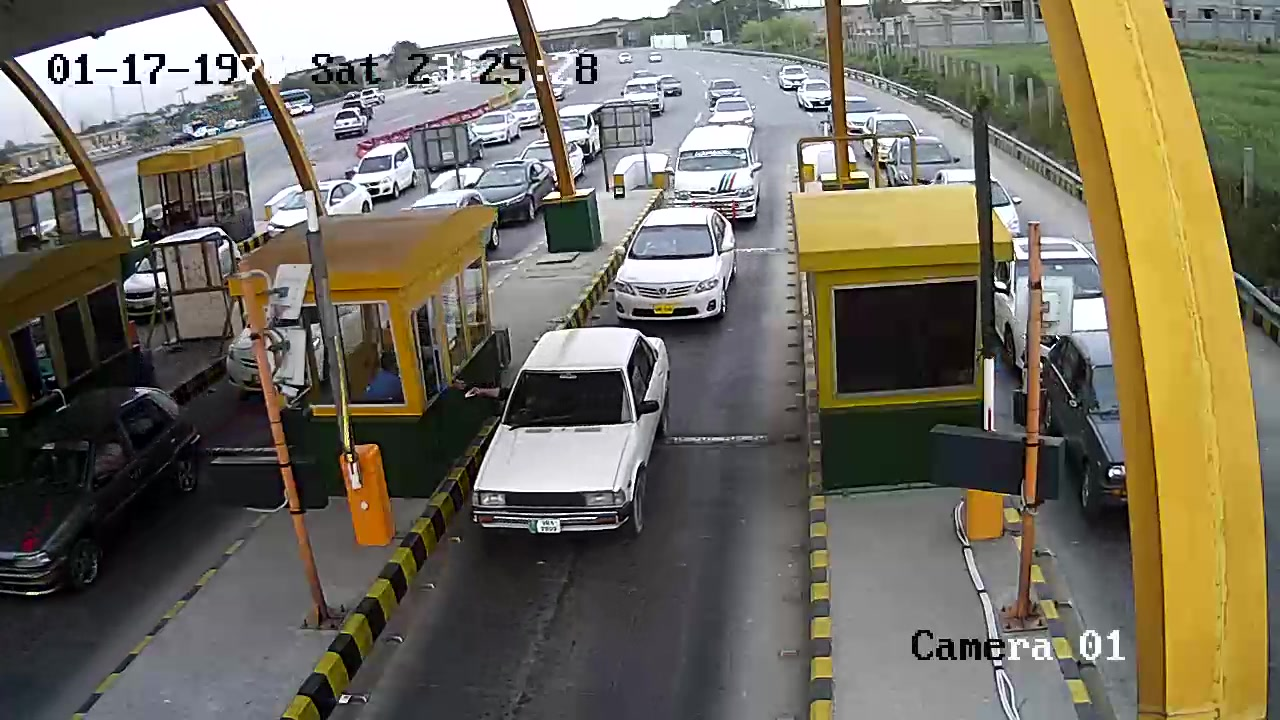F1: (465, 330, 678, 548), (610, 207, 742, 323)
